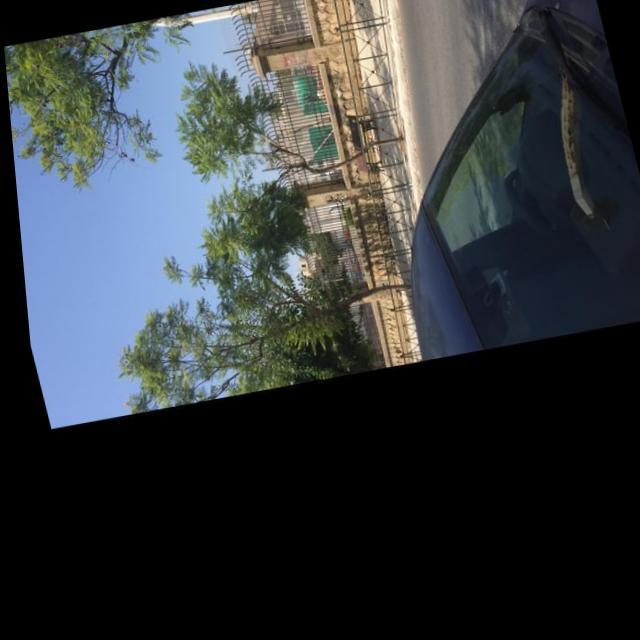-: (320, 194, 344, 206)
